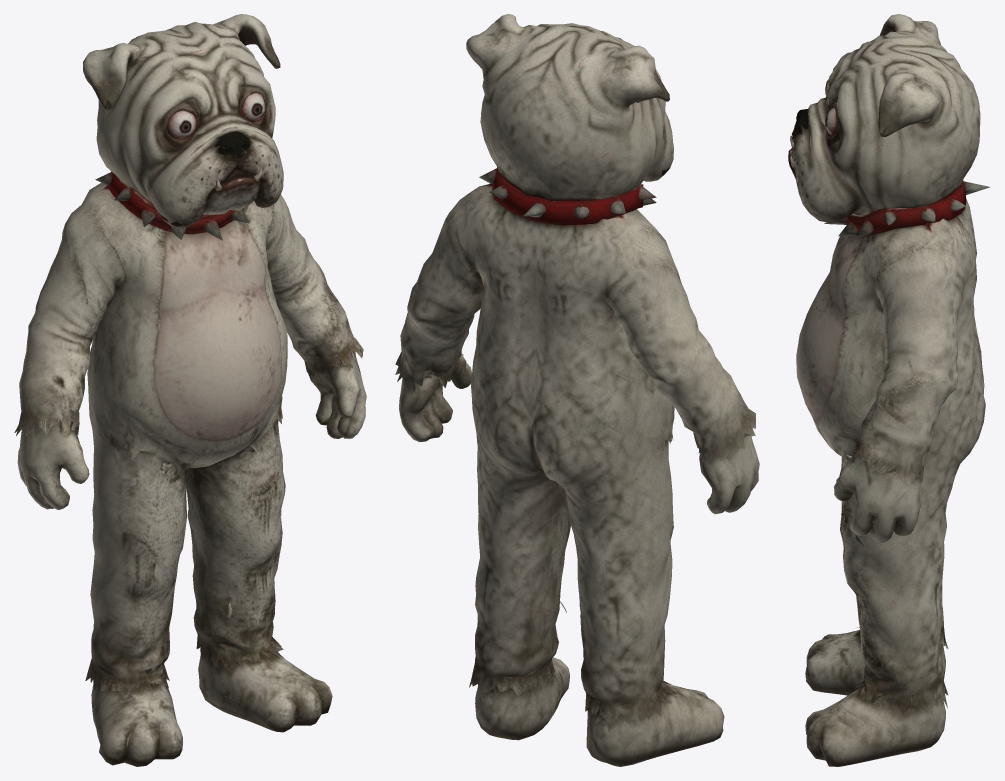
The model's file is mascot.glb.
The picture shows the model from 3 angles, left to right: view 1: azimuth 30°, elevation 25°; view 2: azimuth 150°, elevation 25°; view 3: azimuth 270°, elevation 25°; orthographic projection. The views are drawn at different scales.
Bounding box in the file's own units: 0.4888 × 0.9502 × 0.2583.
Materials: 1 (1 with a texture image).
